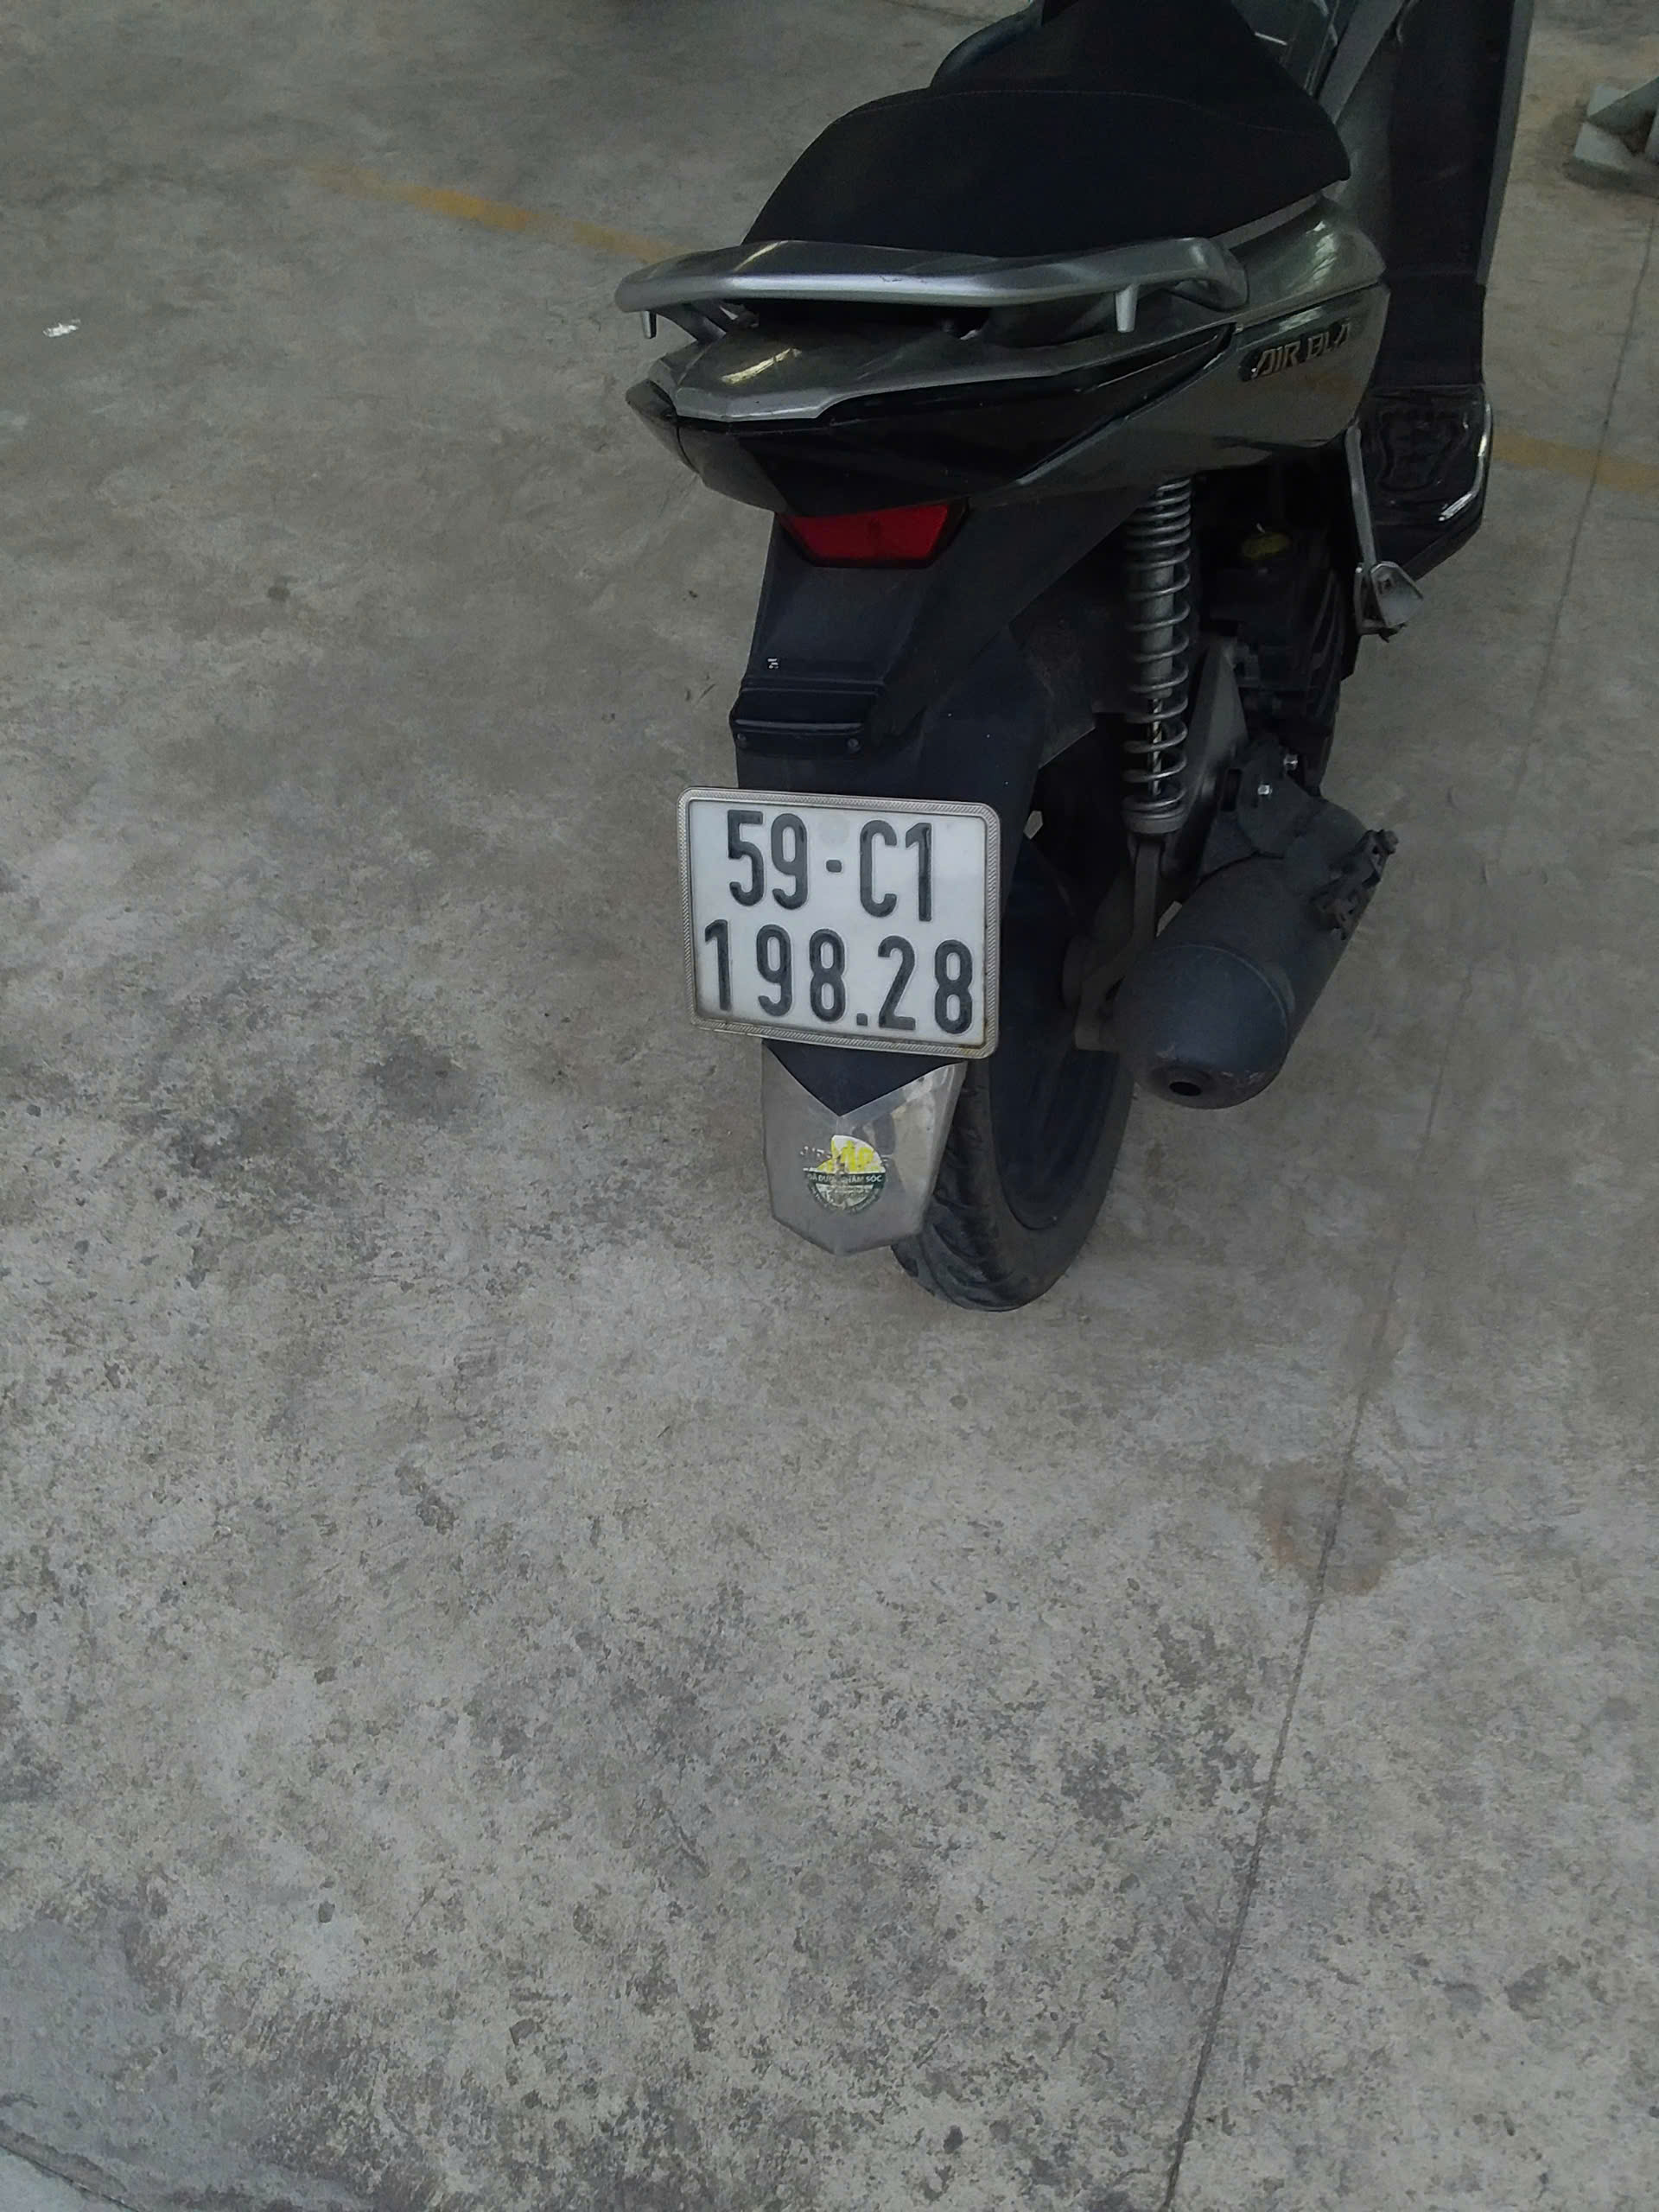bien_so: (681, 792, 994, 1049)
